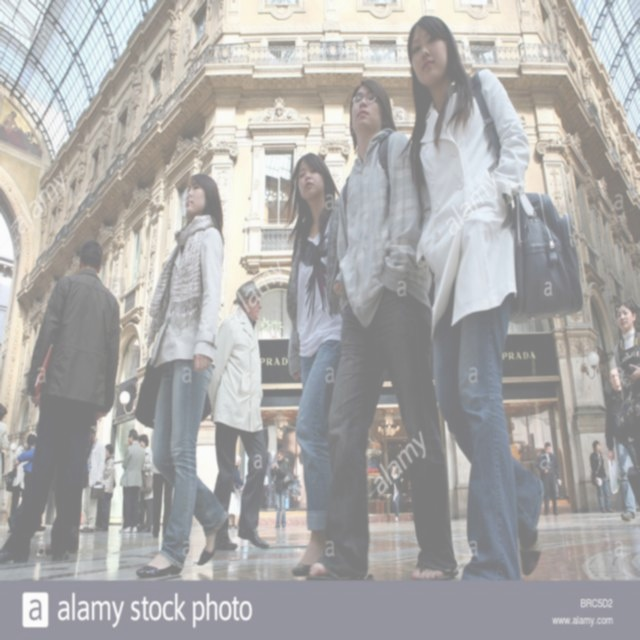pessoa: (396, 12, 585, 582), (300, 75, 462, 600), (0, 235, 123, 568), (132, 172, 230, 585), (286, 150, 346, 580), (206, 279, 272, 552), (604, 366, 636, 522), (614, 298, 640, 467), (118, 427, 146, 536), (12, 448, 48, 532), (79, 428, 107, 534), (148, 426, 173, 542), (535, 440, 563, 518), (589, 439, 617, 514), (136, 433, 154, 534), (270, 448, 290, 530), (8, 433, 28, 515), (98, 442, 116, 532), (227, 454, 246, 529), (386, 462, 403, 524), (0, 402, 12, 488)
